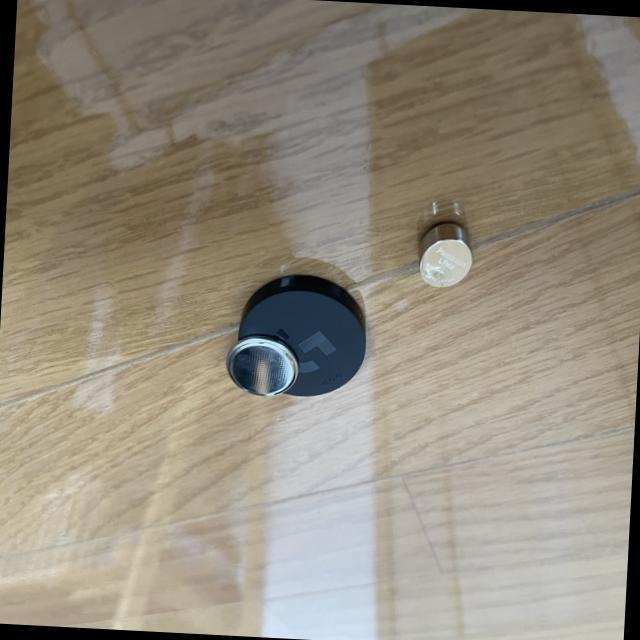COIN: (222, 335, 299, 399), (414, 220, 474, 290)
